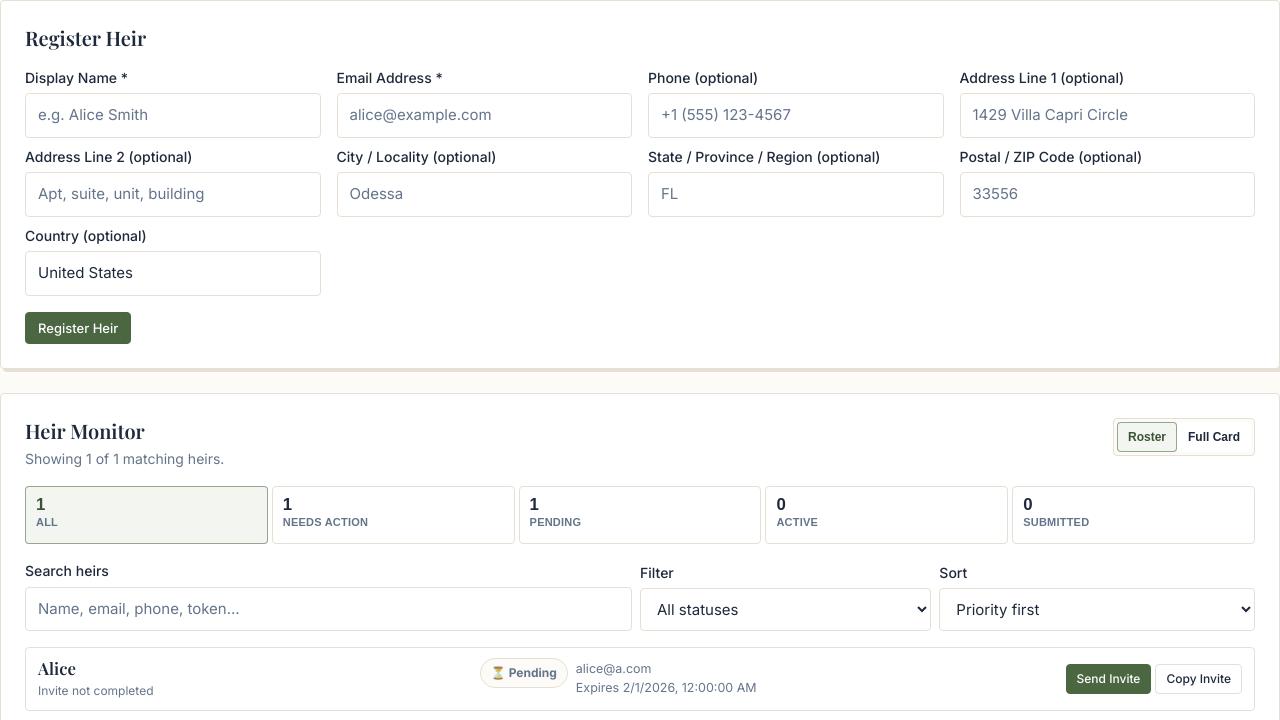
AdminSessionControl Component › sends invite and refreshes list
Click the button with test id "send-invite-heir-1" at (1108, 679), box [1066, 664, 1151, 694]
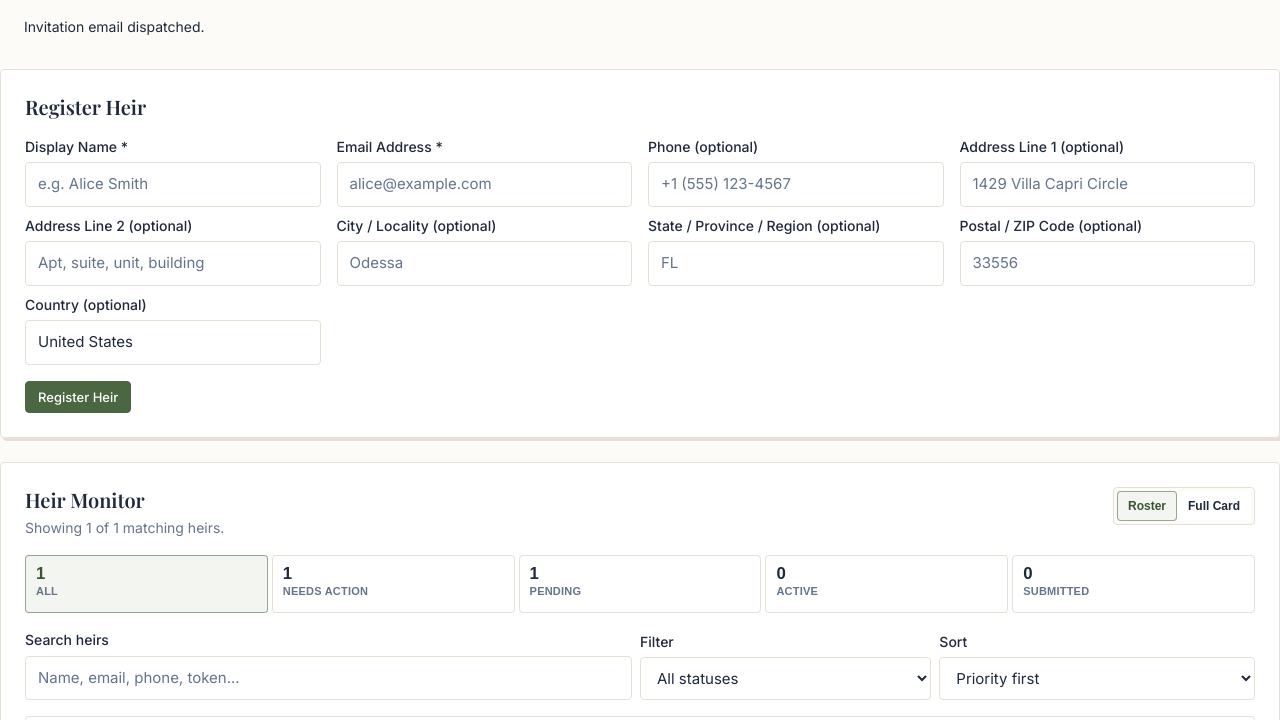
Expected: the text "Invitation email dispatched." is shown, [24, 18, 205, 35]
